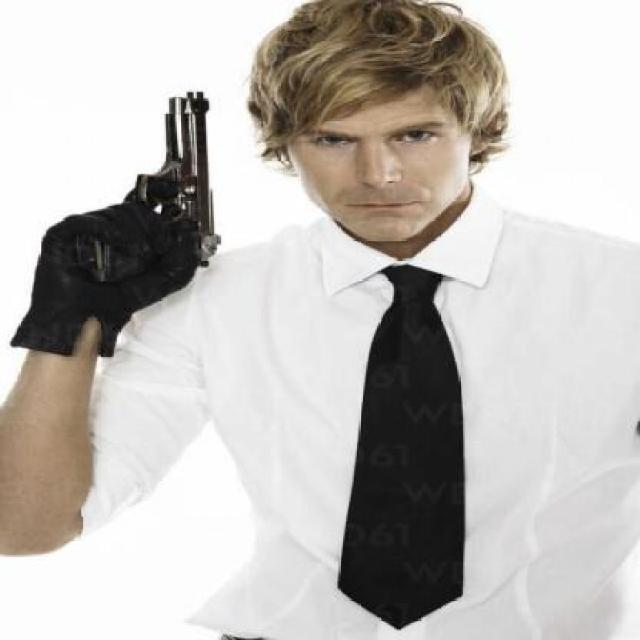gun: (72, 87, 225, 275)
